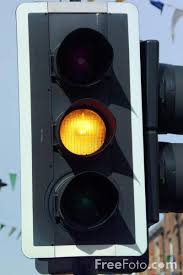amber: (12, 1, 152, 261), (25, 8, 142, 250), (45, 25, 128, 237), (55, 31, 115, 230)
